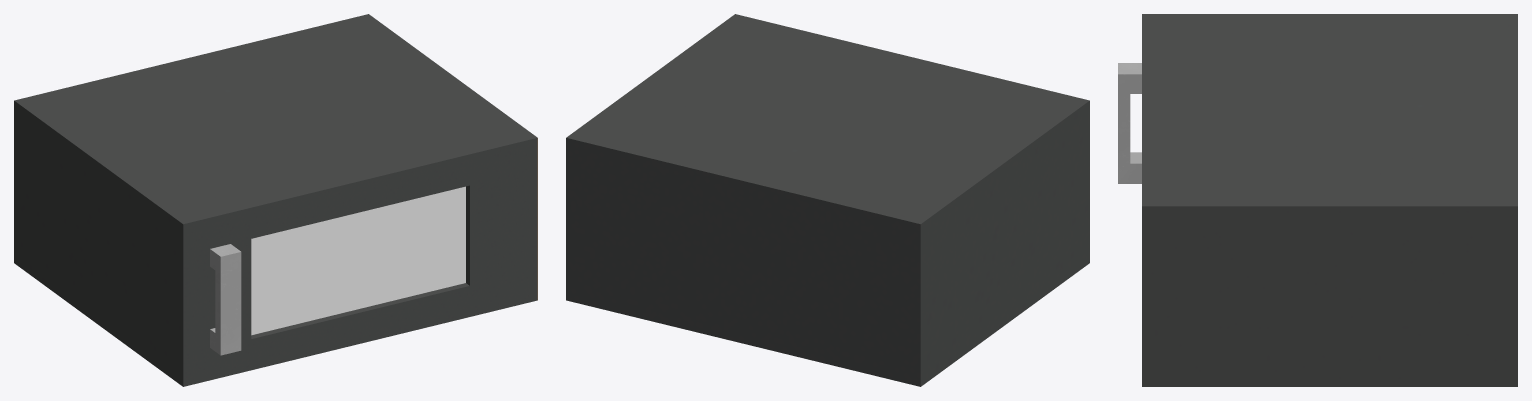
File: Microwave.fbx
3 views of the same model, side by side, from view 1: azimuth 30°, elevation 25°; view 2: azimuth 150°, elevation 25°; view 3: azimuth 270°, elevation 25° (orthographic). The views are drawn at different scales.
Visible parts, largest first — view 1: RT_IP_Furniture:Microwave, RT_IP_Furniture:Handle11; view 2: RT_IP_Furniture:Microwave; view 3: RT_IP_Furniture:Microwave, RT_IP_Furniture:Handle11.
Part boxes in pixels (x1,y1,x2,y2): RT_IP_Furniture:Microwave: [14, 14, 537, 386]; RT_IP_Furniture:Handle11: [210, 244, 241, 355]; RT_IP_Furniture:Microwave: [566, 14, 1089, 386]; RT_IP_Furniture:Microwave: [1142, 14, 1517, 386]; RT_IP_Furniture:Handle11: [1118, 63, 1141, 183].
Size of the model in its own units: 1.06 by 0.4643 by 0.9305.
